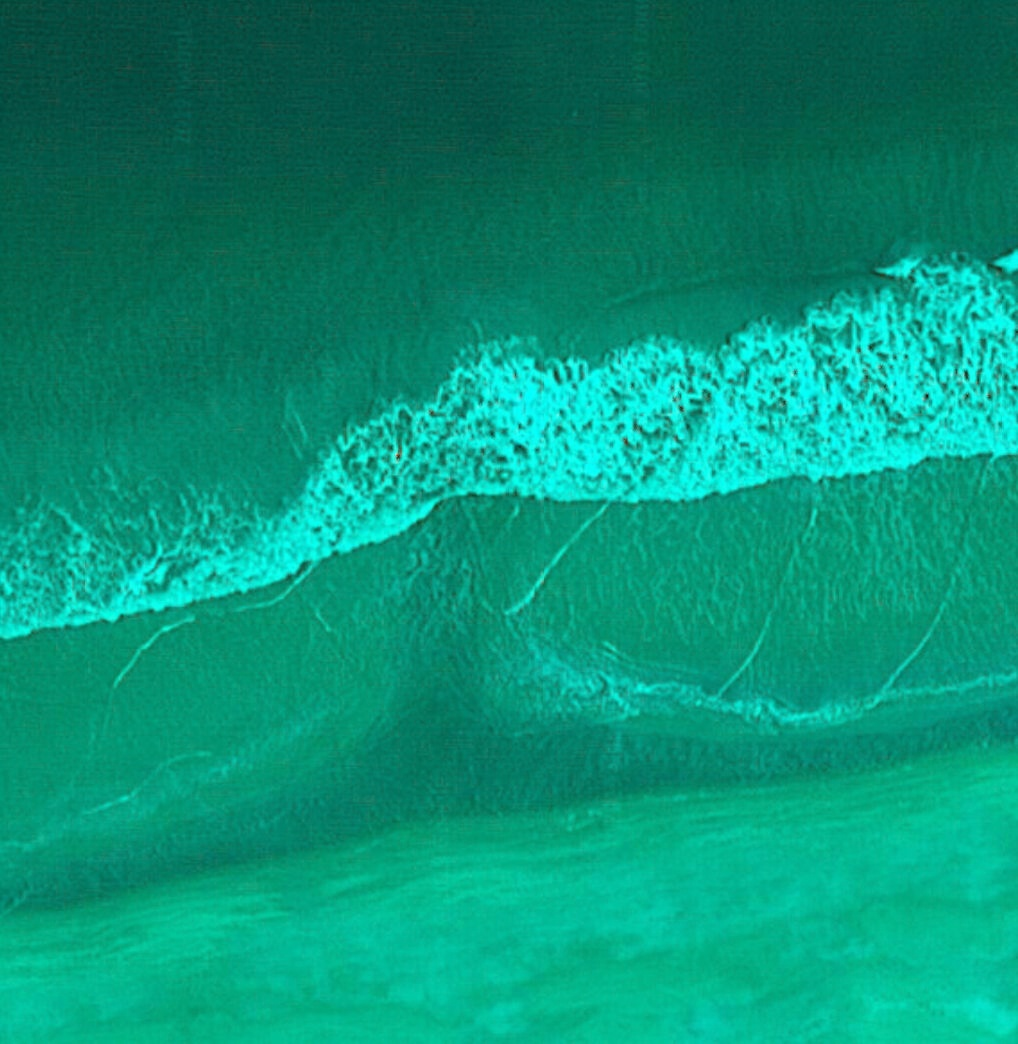rip_current: (319, 286, 549, 664)
